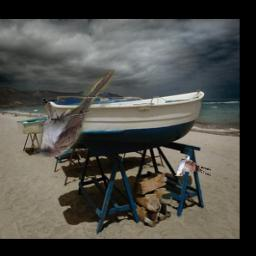Cuckoo: (35, 70, 116, 157), (174, 155, 212, 177)
